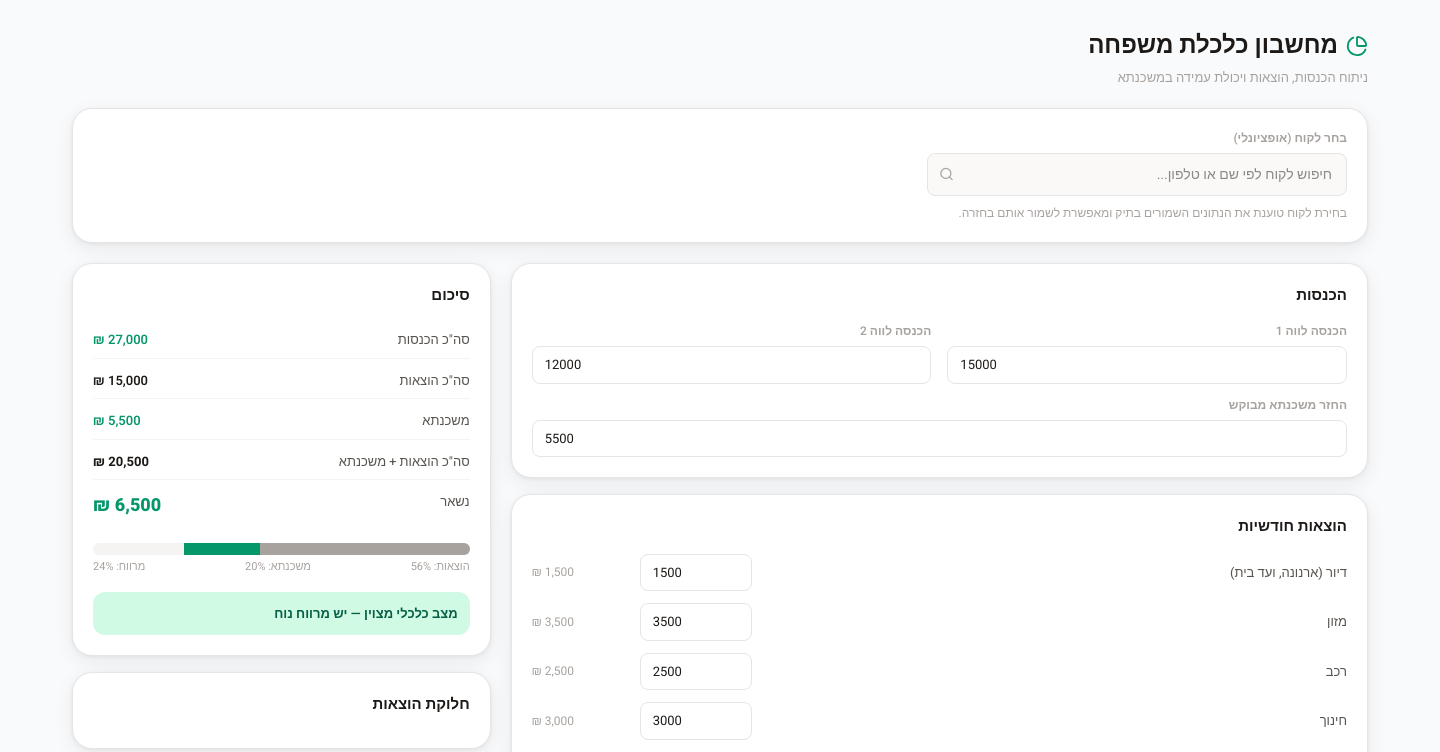
Test: FamilyEconomicsPage › shows a share rather than NaN when the income is cleared
Clear the number field labelled "הכנסה לווה 1". click: (1147, 365)
box: [947,346,1347,384]
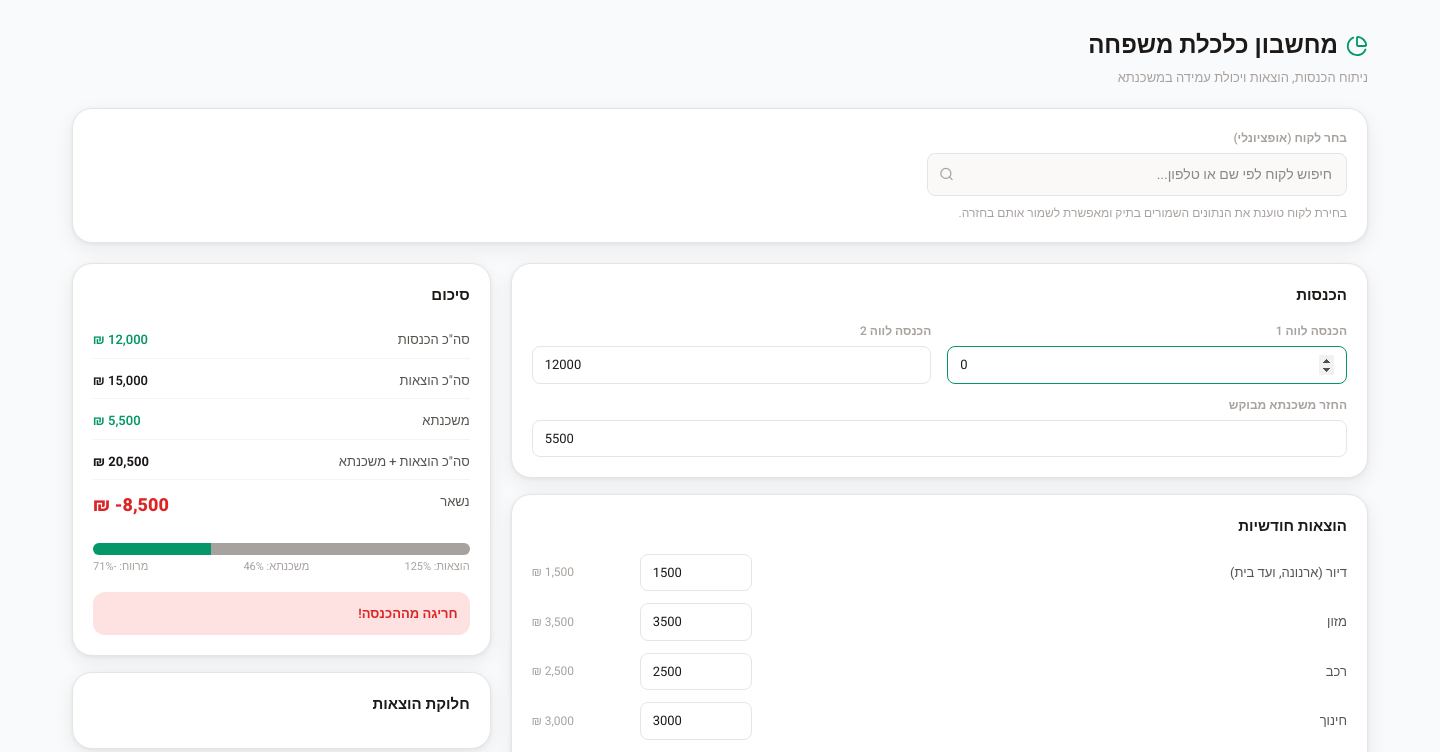
Clear the number field labelled "הכנסה לווה 2". click: (732, 365)
box: [532,346,931,384]
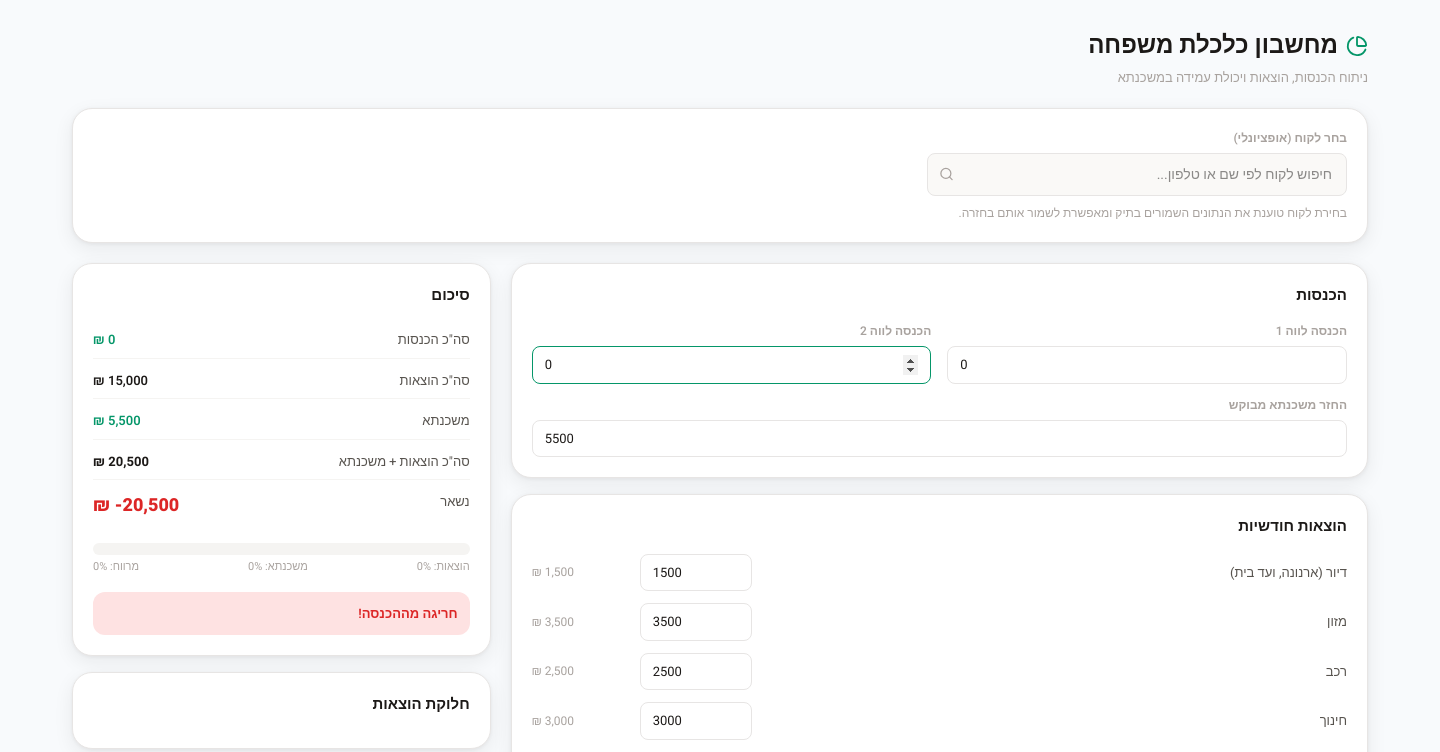
Expected: the text "משכנתא: 0%" is shown, [248,559,308,576]
